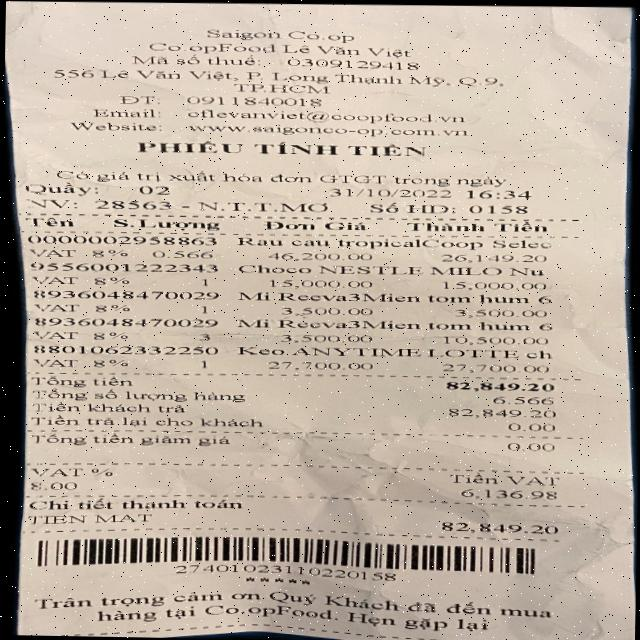Date: (302, 186, 463, 203)
Store_Name: (182, 24, 420, 46)
amount_number: (437, 378, 562, 395)
label_total: (28, 376, 138, 388)
